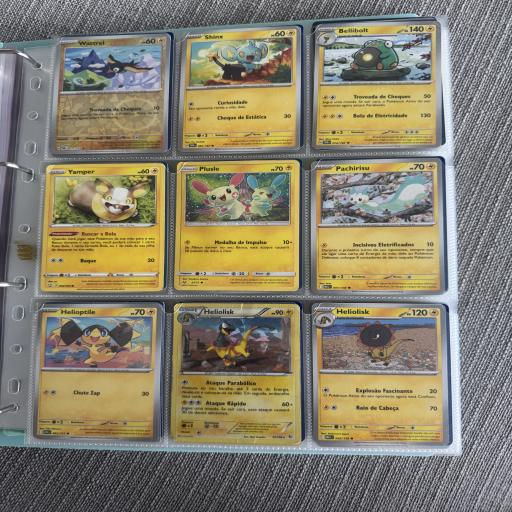card: (311, 301, 449, 448), (170, 301, 304, 444), (311, 158, 444, 295), (33, 301, 163, 441), (312, 20, 442, 150), (174, 159, 300, 291), (40, 163, 165, 292), (177, 24, 301, 154), (49, 31, 171, 157)
